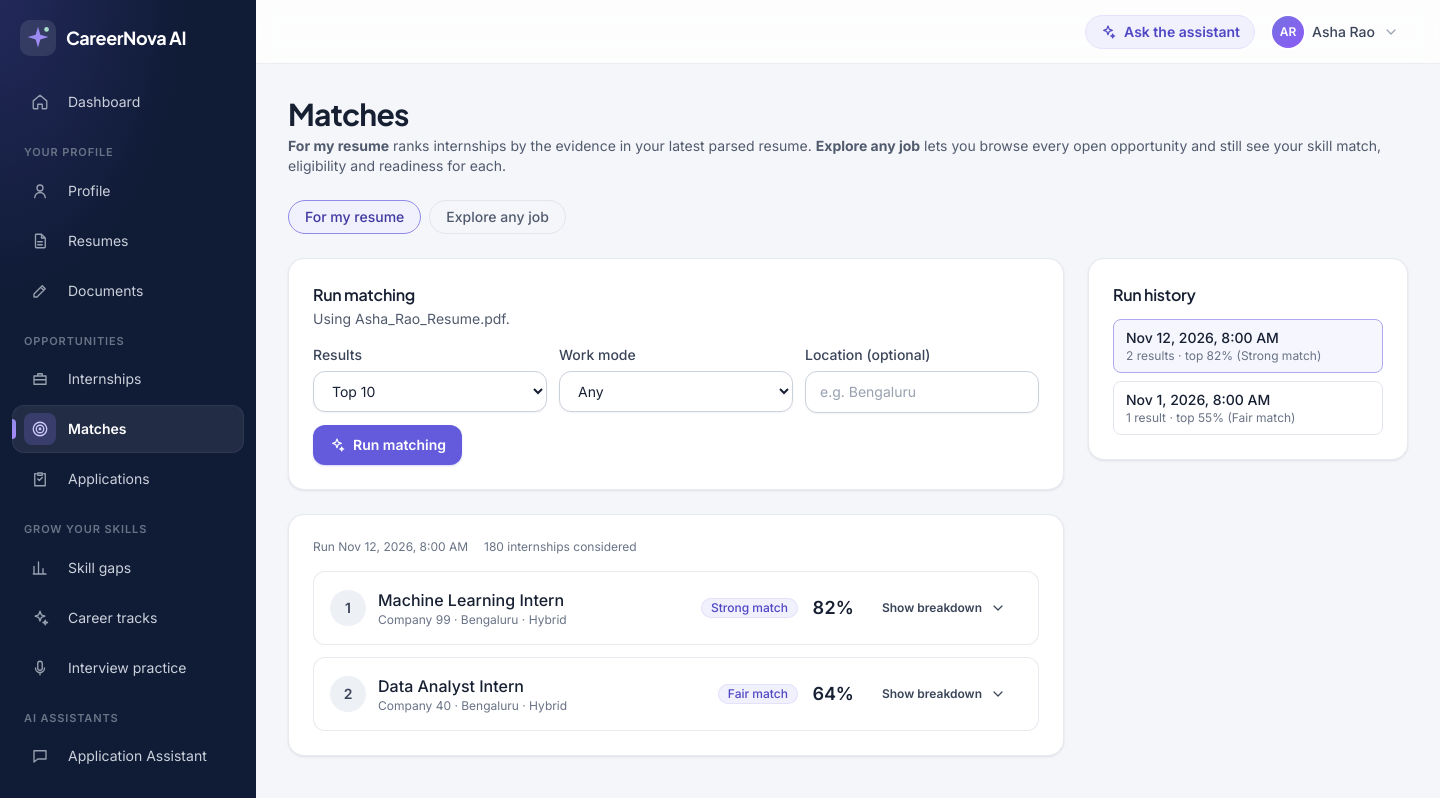
Scenario: Matches page › shows the latest run in rank order with an expandable breakdown
Expected: the list named "Match results" is shown, x1=313 y1=571 x2=1039 y2=731
Expected: the text "180 internships considered" is shown, x1=484 y1=539 x2=637 y2=555
What coordinates should you click on to do the following:
click the button named "Show breakdown for Machine Learning Intern"
I would click on:
 (944, 608)
Its box is x1=866 y1=588 x2=1022 y2=628.
(page scrolled)
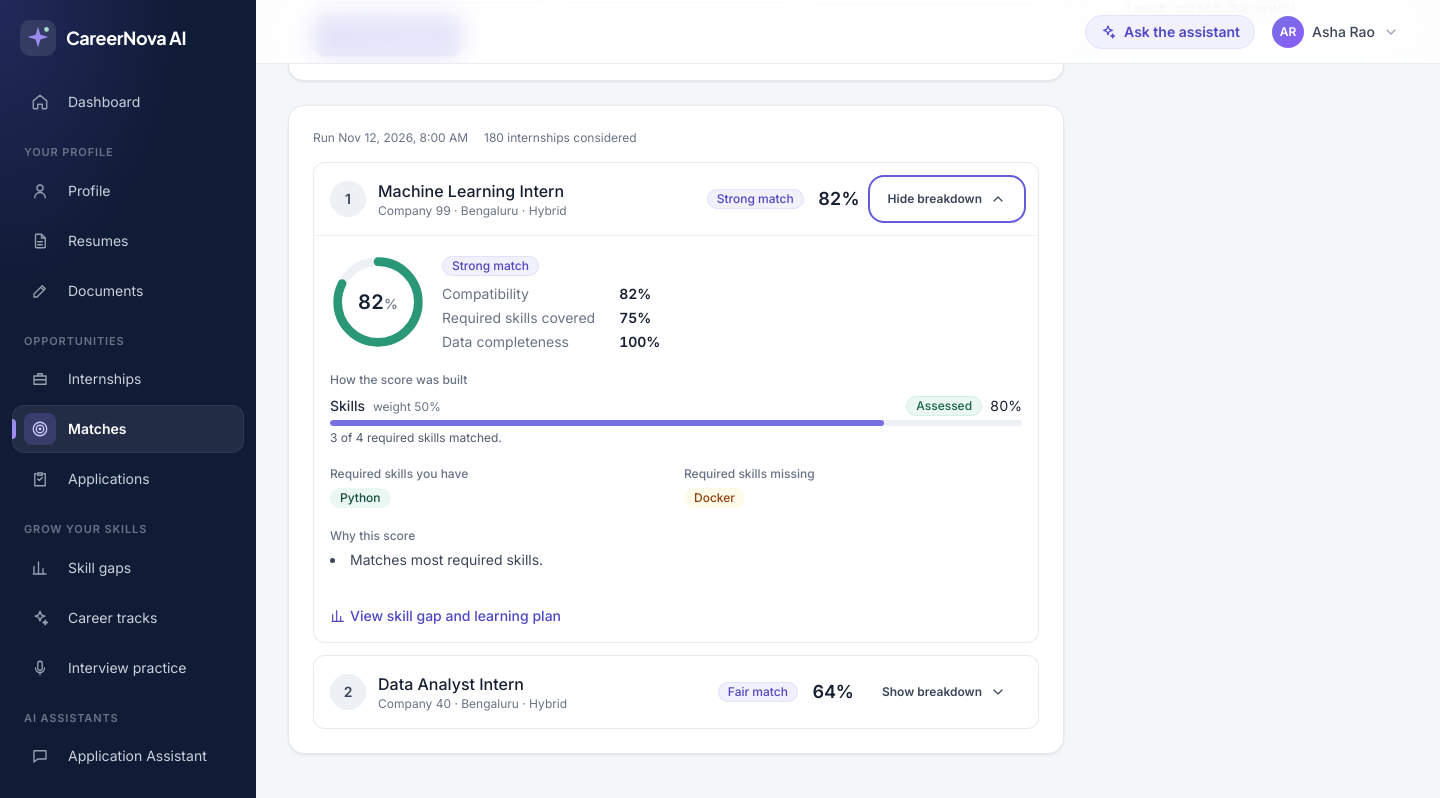
Expected: the button named "Show breakdown for Machine Learning Intern" is expanded, x1=872 y1=179 x2=1022 y2=219
Expected: the list named "Score components" shows "3 of 4 required skills matched.", x1=330 y1=430 x2=502 y2=445
Expected: the list item "Matches most required skills." is shown, x1=350 y1=551 x2=543 y2=568
